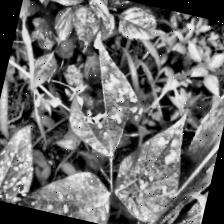Bean Rust: (58, 40, 156, 164), (106, 100, 198, 224), (25, 161, 117, 224), (0, 119, 42, 201)
